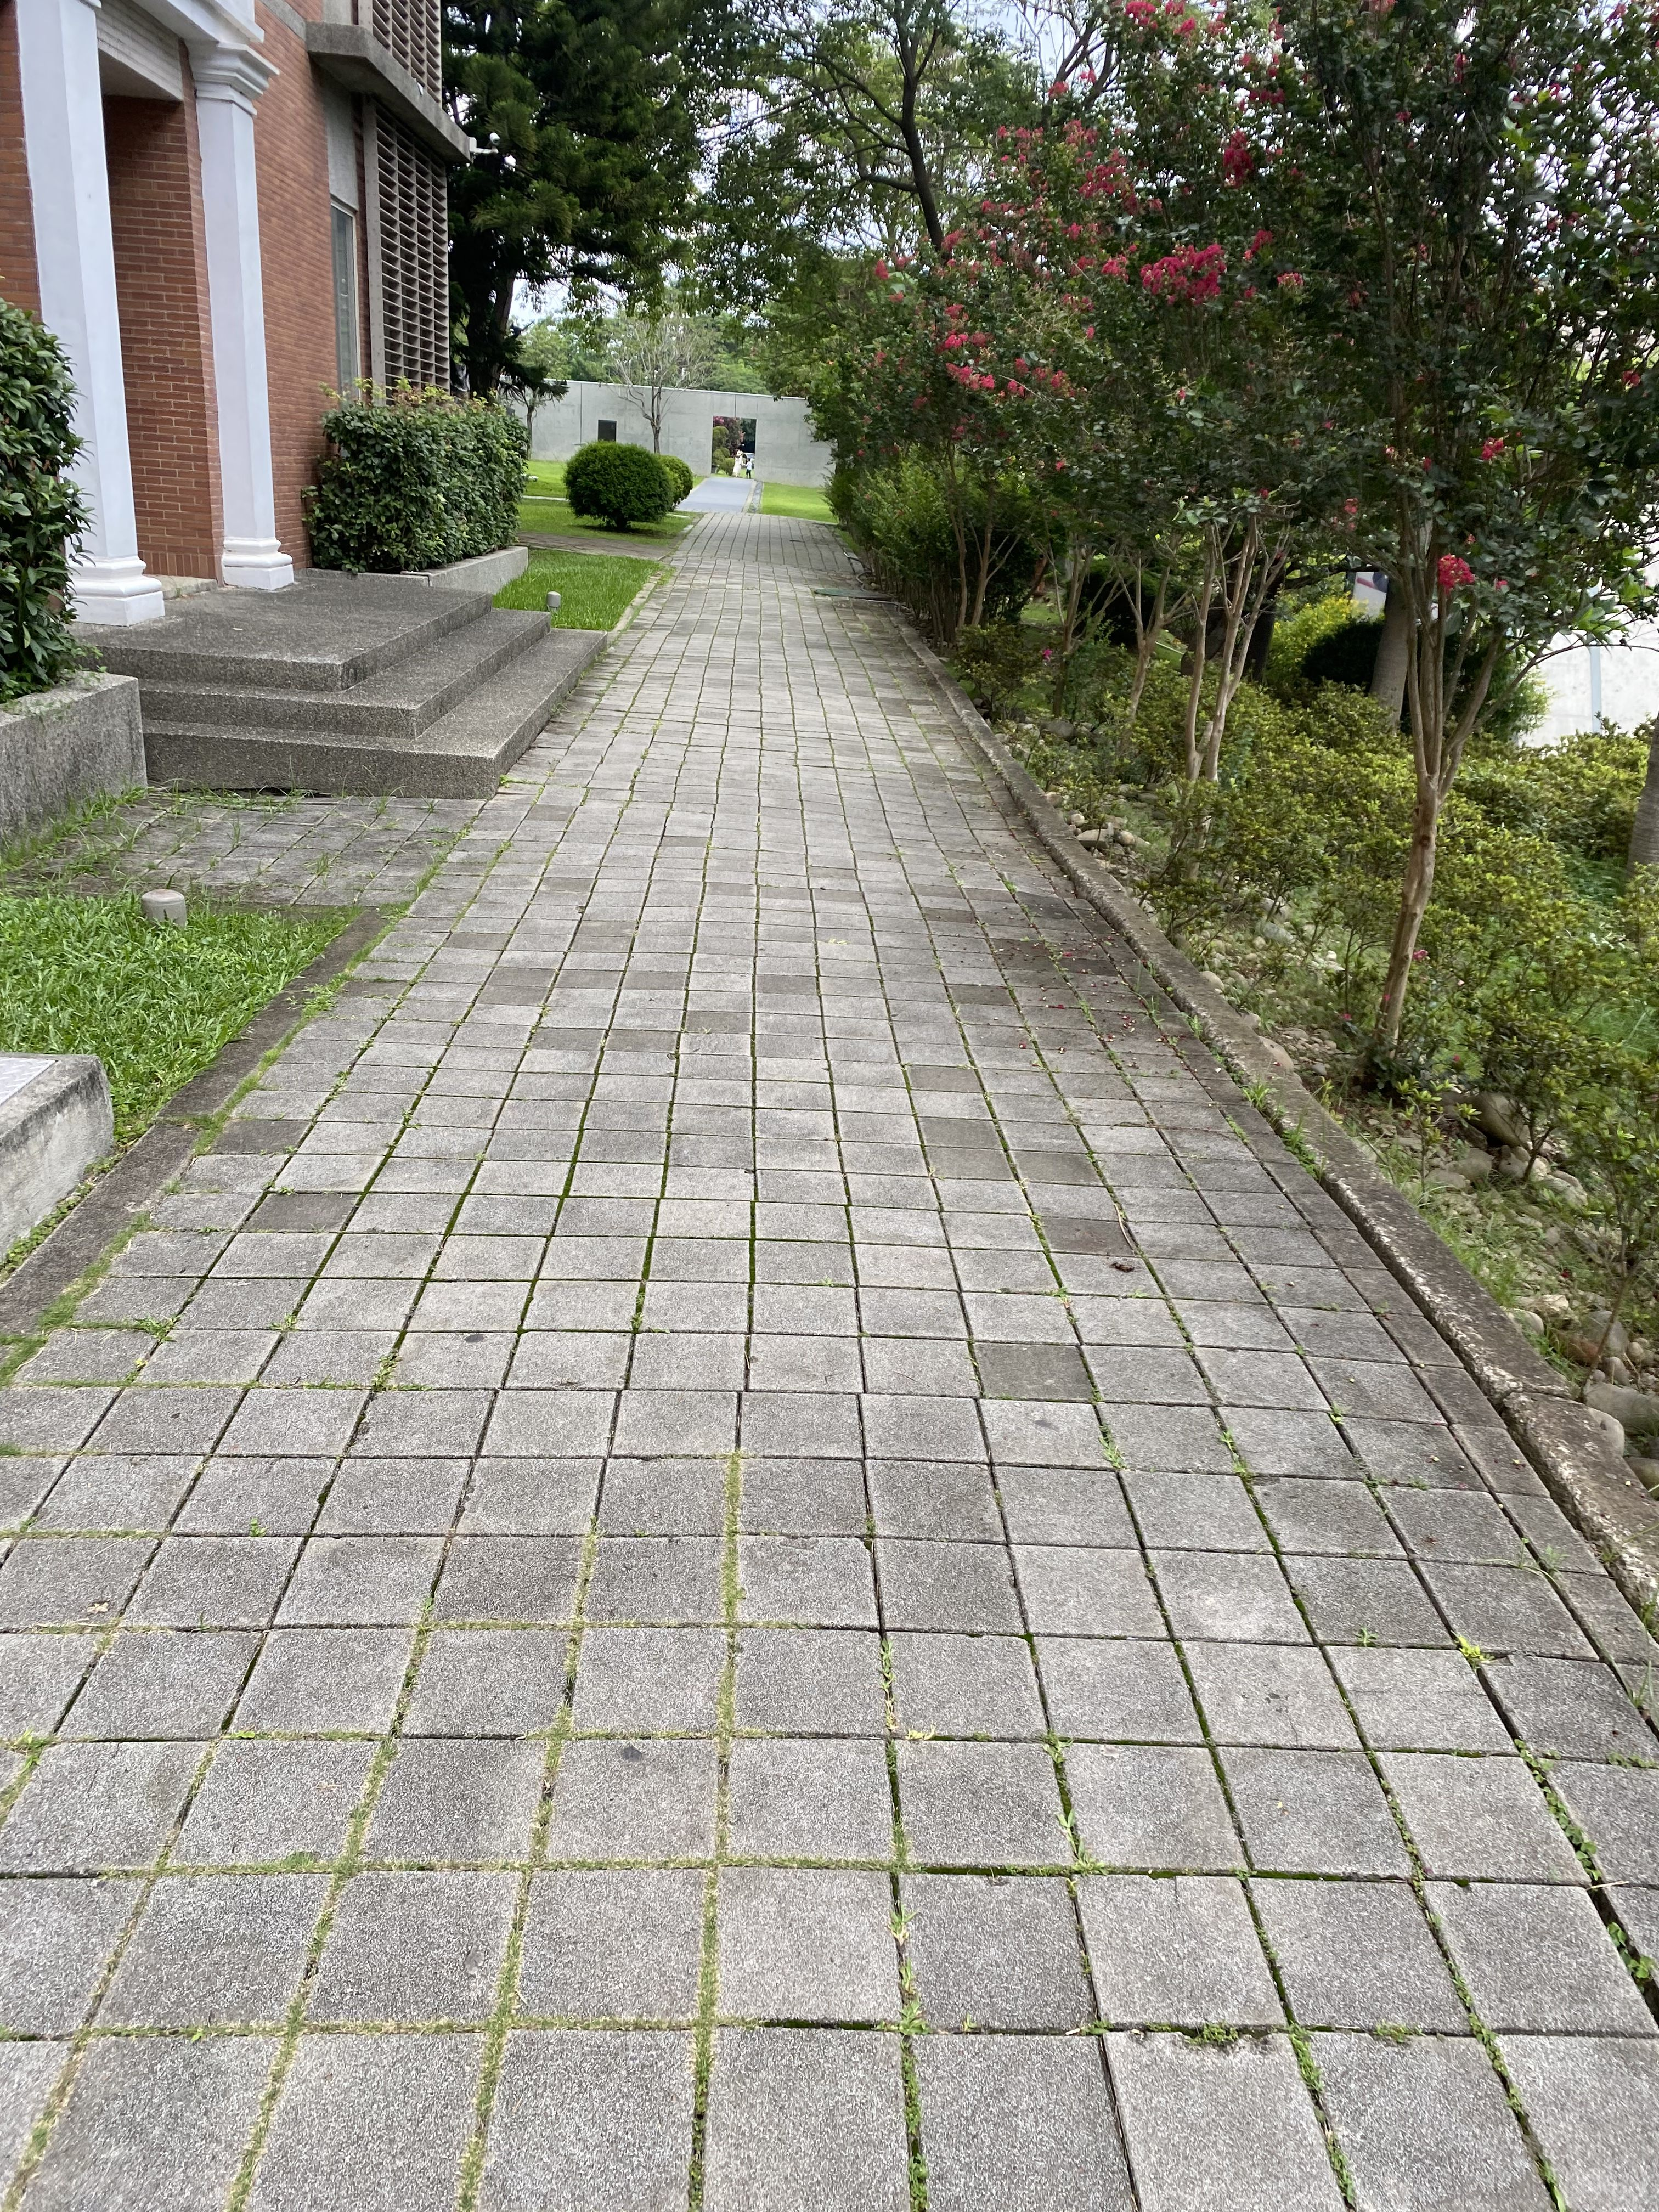0: (3, 564, 1659, 2205)
sidewalk: (647, 514, 993, 1345)
